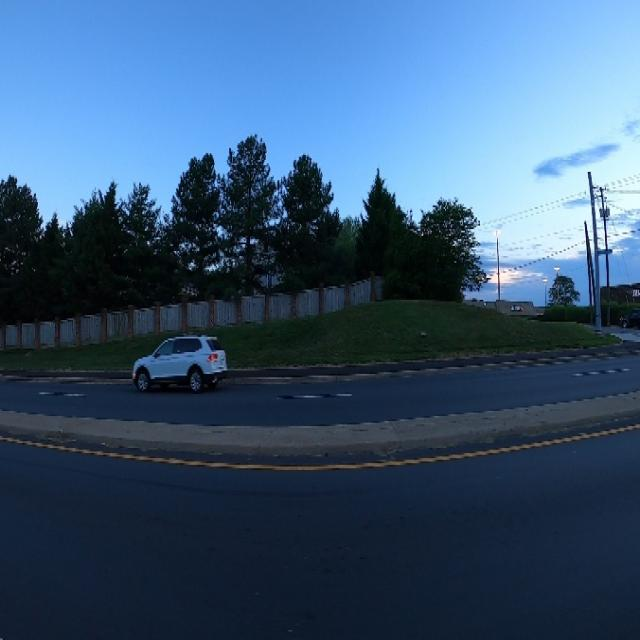cars: (124, 315, 229, 409), (618, 286, 640, 341)
